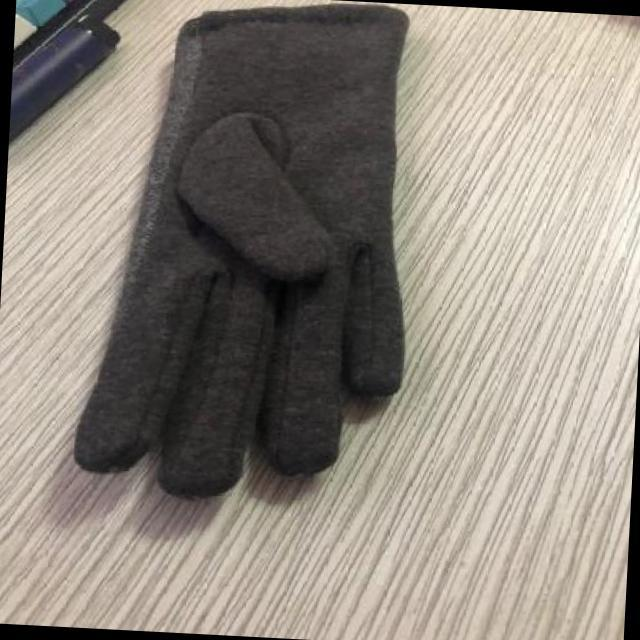glove: (76, 4, 411, 496)
